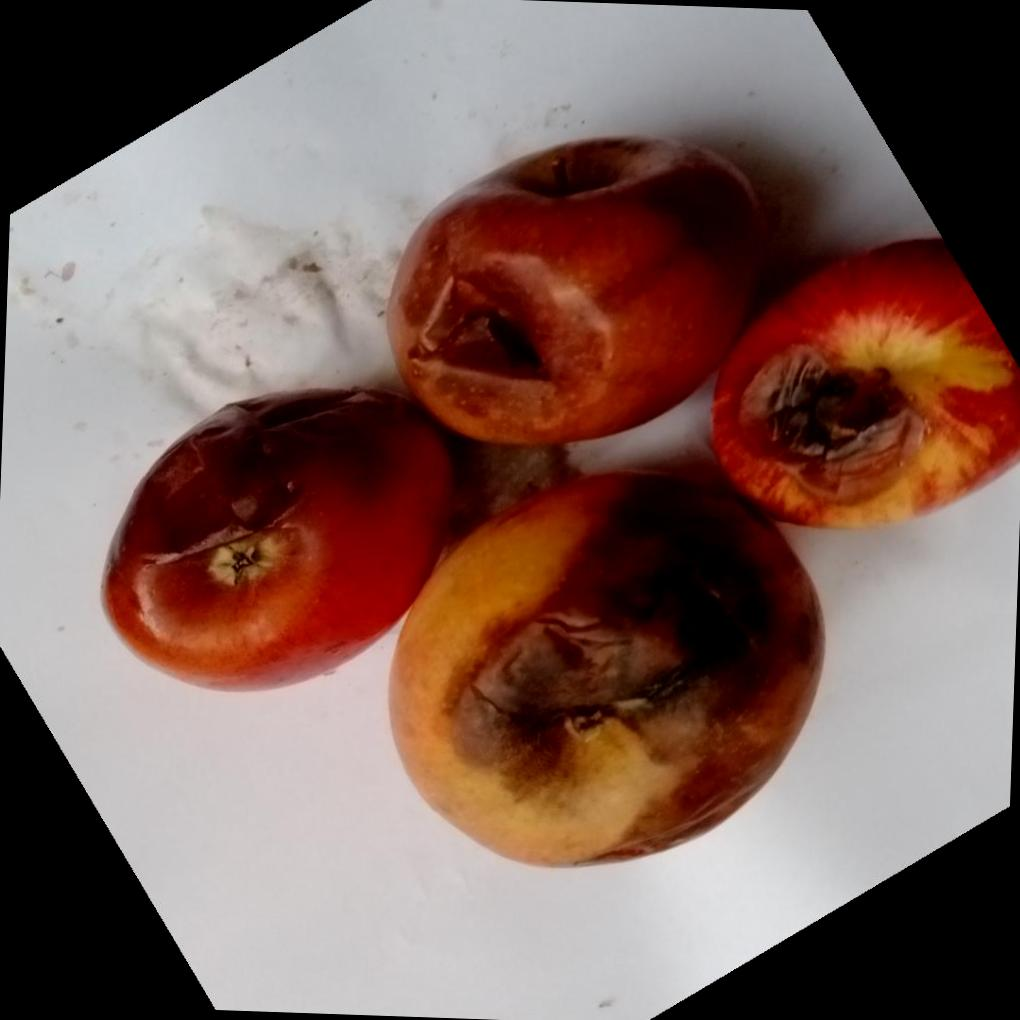FreshOrange: (102, 140, 1020, 870)
